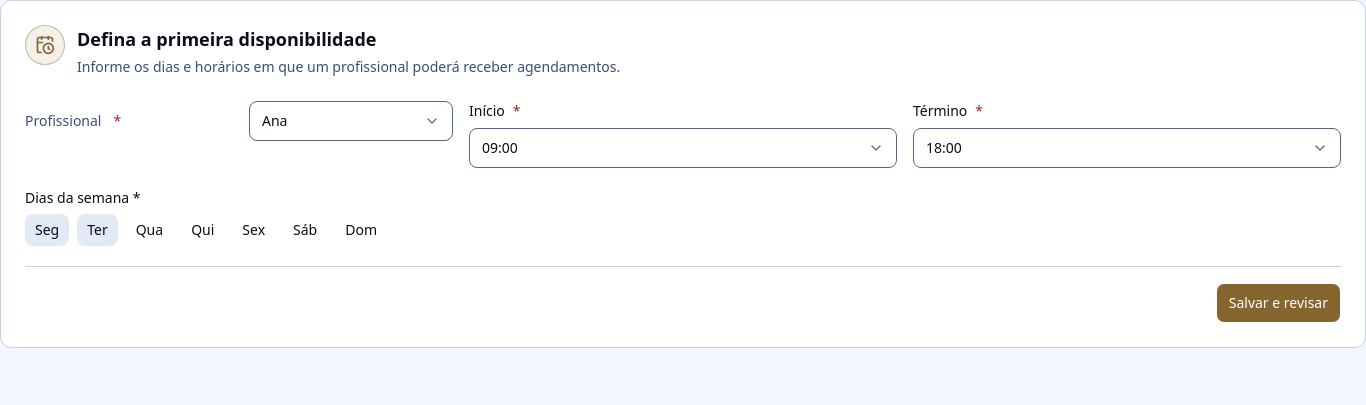
onboarding availability step › uses the generic recovery copy for an unknown persistence failure
Click the button "Salvar e revisar" at point(1278, 303), box [1216, 283, 1341, 323]
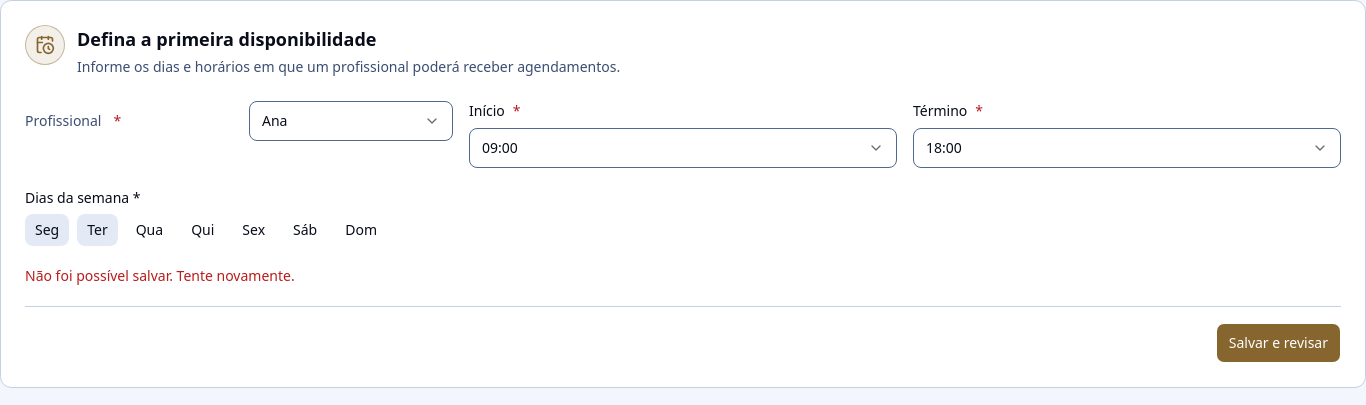
Result: the message reads "Não foi possível salvar. Tente novamente." at [25, 266, 295, 285]
